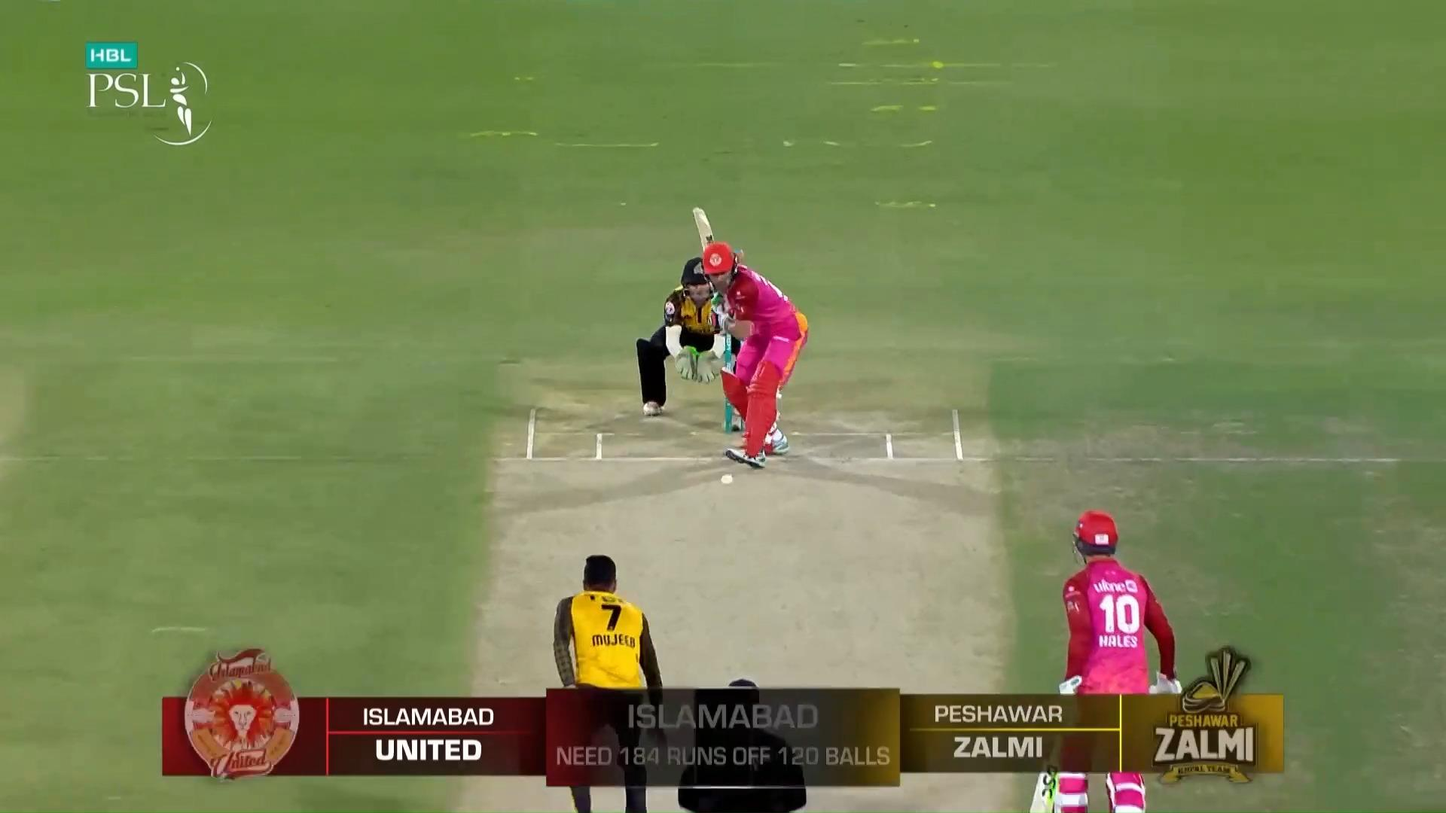batsman: (693, 205, 810, 469)
